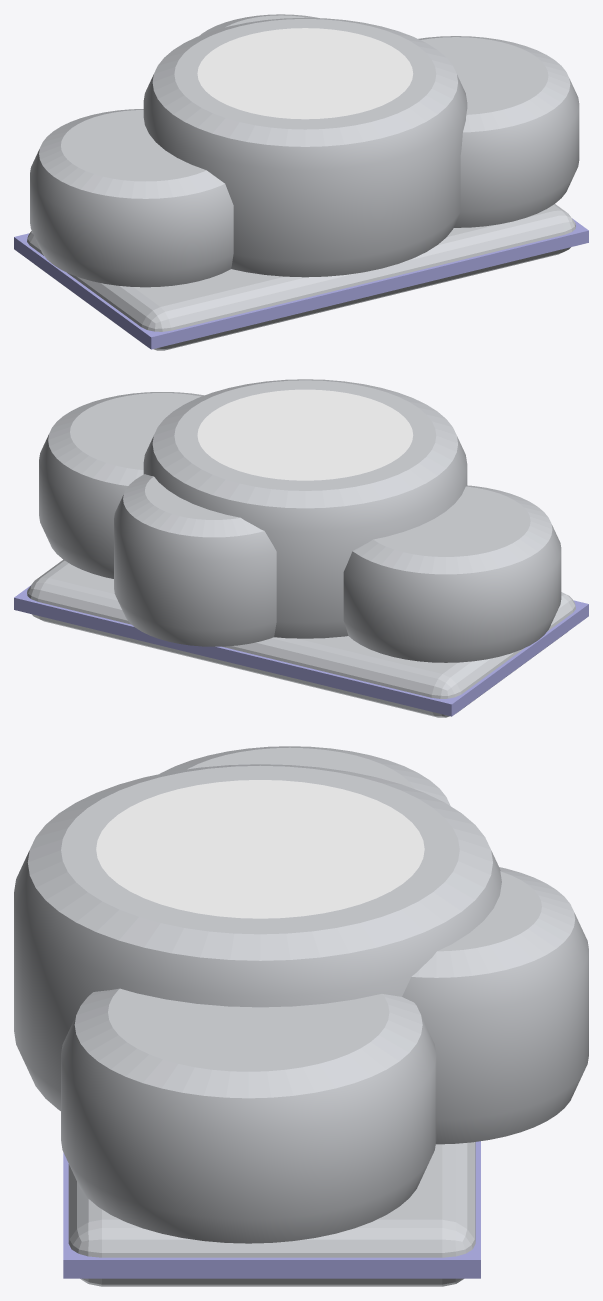
The model's file is external.glb.
The picture shows the model from 3 angles, top to bottom: view 1: azimuth 30°, elevation 25°; view 2: azimuth 150°, elevation 25°; view 3: azimuth 270°, elevation 25°; orthographic projection. The views are drawn at different scales.
Parts seen in each view (by area): view 1: ex_c1, ex_c2, ex_c3, ex_base, ex_logo, ex_band, ex_c4; view 2: ex_c1, ex_c2, ex_c4, ex_logo, ex_c3, ex_base, ex_band; view 3: ex_c3, ex_c1, ex_logo, ex_c4, ex_base, ex_band, ex_c2.
Boxes of the visible parts, x1=… form: ex_c1: x1=143, y1=17, x2=467, y2=277; ex_c2: x1=30, y1=109, x2=233, y2=287; ex_c3: x1=418, y1=36, x2=579, y2=227; ex_base: x1=27, y1=204, x2=575, y2=350; ex_logo: x1=197, y1=28, x2=413, y2=119; ex_band: x1=14, y1=218, x2=588, y2=349; ex_c4: x1=199, y1=14, x2=319, y2=35; ex_c1: x1=143, y1=379, x2=467, y2=638; ex_c2: x1=343, y1=485, x2=561, y2=662; ex_c4: x1=114, y1=474, x2=276, y2=646; ex_logo: x1=197, y1=389, x2=413, y2=480; ex_c3: x1=39, y1=392, x2=204, y2=578; ex_base: x1=27, y1=559, x2=575, y2=717; ex_band: x1=14, y1=585, x2=588, y2=716; ex_c3: x1=61, y1=988, x2=436, y2=1243; ex_c1: x1=14, y1=764, x2=501, y2=1110; ex_logo: x1=96, y1=780, x2=424, y2=918; ex_c4: x1=402, y1=867, x2=588, y2=1144; ex_base: x1=68, y1=1142, x2=475, y2=1286; ex_band: x1=63, y1=1141, x2=480, y2=1278; ex_c2: x1=160, y1=746, x2=450, y2=805.
Size of the model in its own units: 1.51 by 0.5415 by 0.98.
